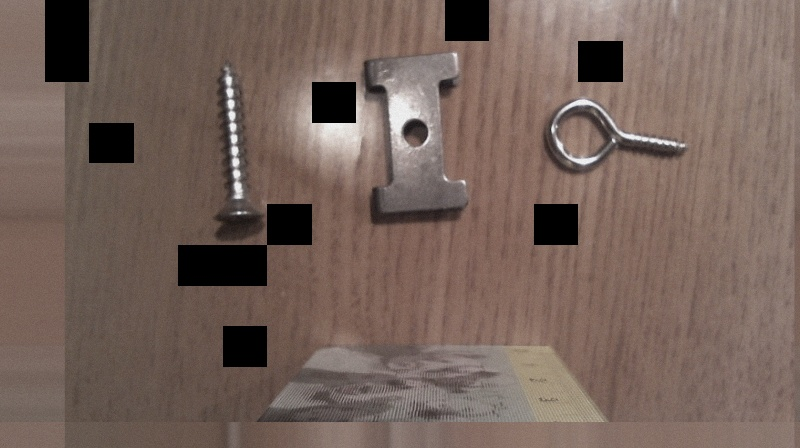O001: (542, 94, 692, 174)
O002: (360, 49, 471, 221)
S001: (204, 57, 273, 230)
